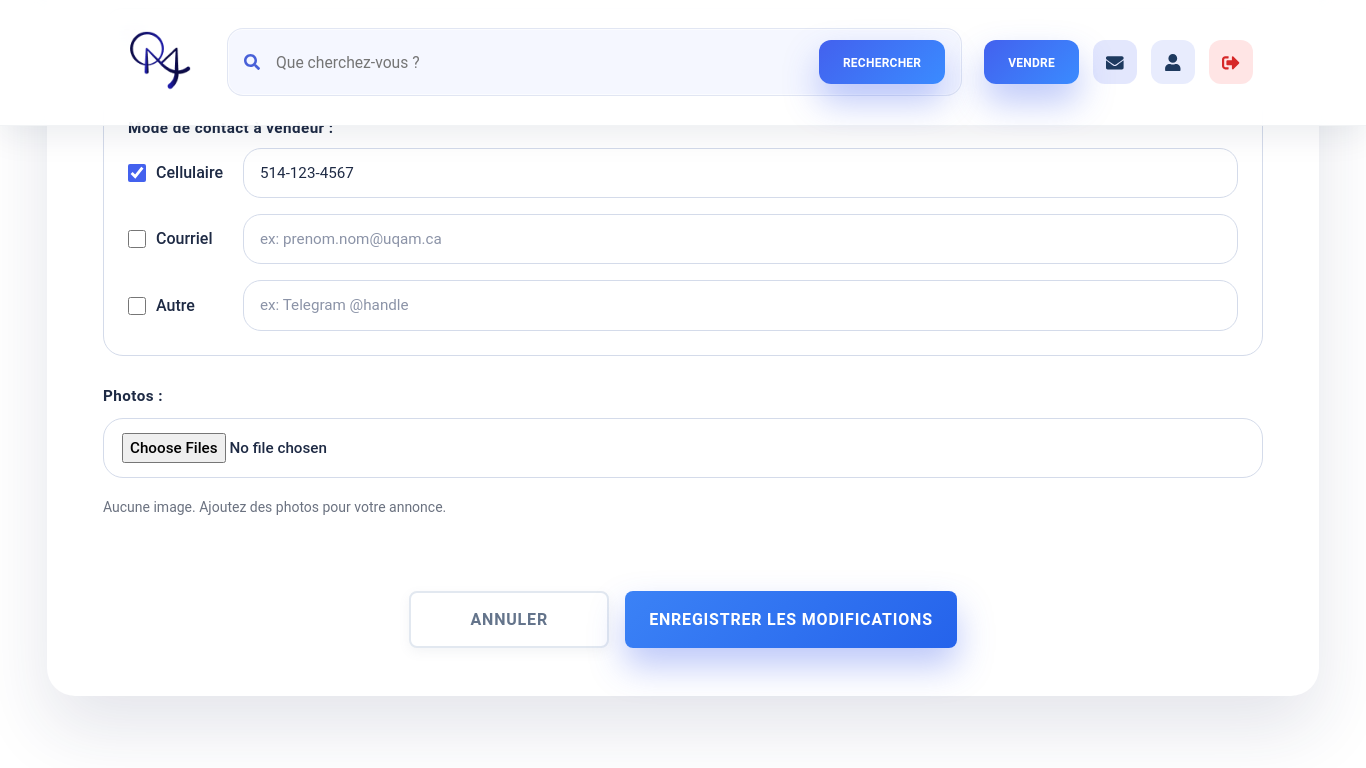
Test: EditListing › validates category selection
This screenshot has width=1366, height=768.
(page scrolled)
Click the button "Enregistrer les modifications". click: coordinates (791, 620)
box: [625,591,957,648]
(page scrolled)
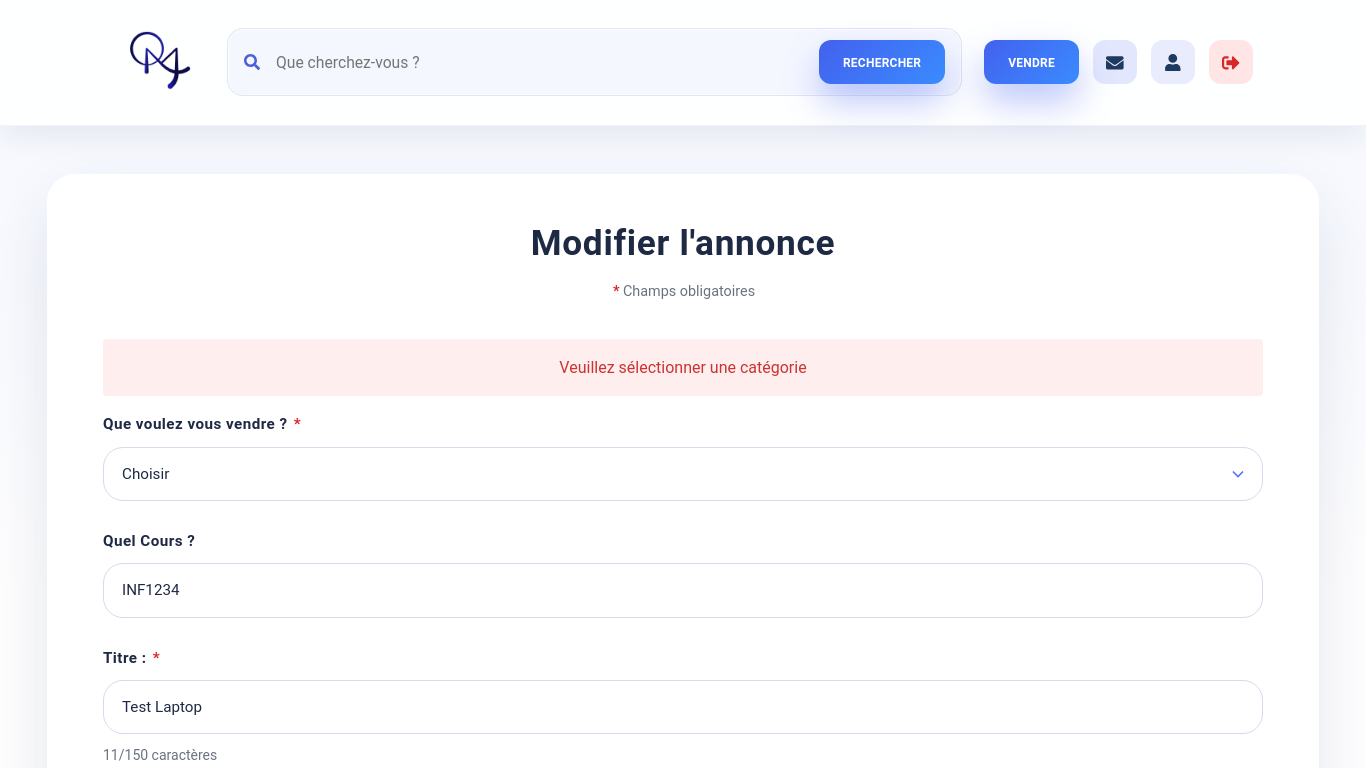
Check: the text "Veuillez sélectionner une catégorie" is shown, box [103,339,1263,396]
